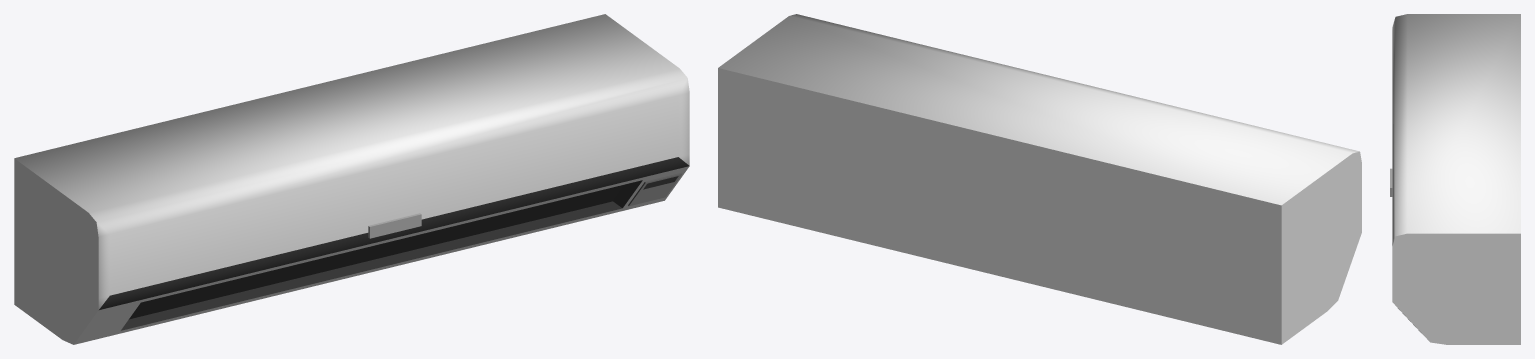
The model's file is air_conditioner.glb.
3 renders of one model, left to right at view 1: azimuth 30°, elevation 25°; view 2: azimuth 150°, elevation 25°; view 3: azimuth 270°, elevation 25°, orthographic. The views are drawn at different scales.
Parts seen in each view (by area): view 1: Air Conditioner; view 2: Air Conditioner; view 3: Air Conditioner.
Boxes of the visible parts, x1,y1,x2,y2 form: Air Conditioner: (14,14,689,344); Air Conditioner: (718,14,1361,344); Air Conditioner: (1390,14,1520,344).
Bounding box in the file's own units: 1.11 × 0.2628 × 0.2798.
1 material, 1 textured.
